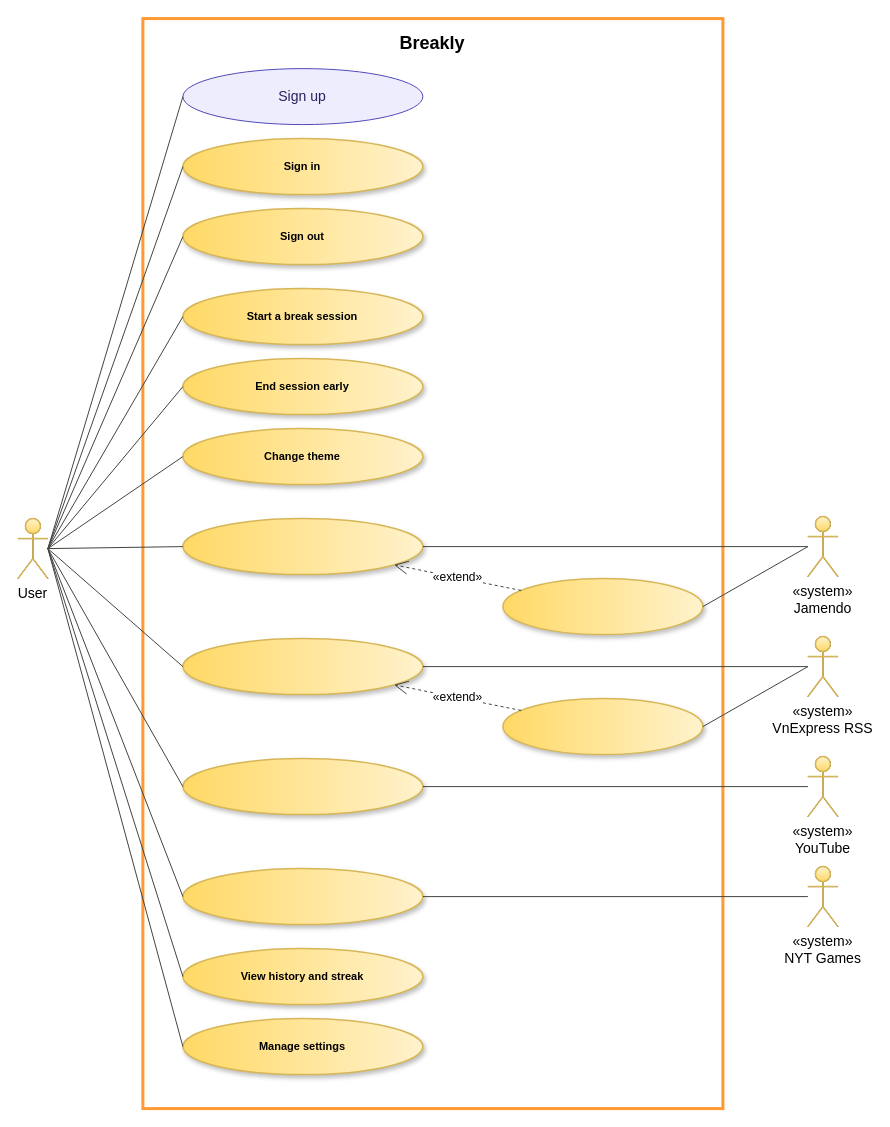
Image size: 890x1127. Some labels were removed from this diagram. Here are the shapes that lost their labels. From the top down, the centre of each, then its label:
(x=303, y=547): Listen to radio
(x=603, y=607): Download track (MP3)
(x=303, y=667): Read news
(x=603, y=727): Open full article
(x=303, y=787): Watch videos
(x=303, y=897): Play daily game
